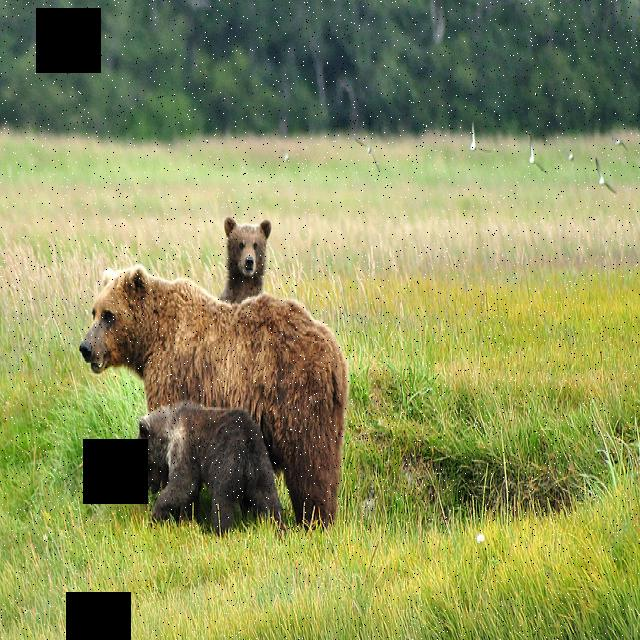Bear: (82, 262, 344, 517), (128, 408, 286, 541), (222, 213, 274, 300)
